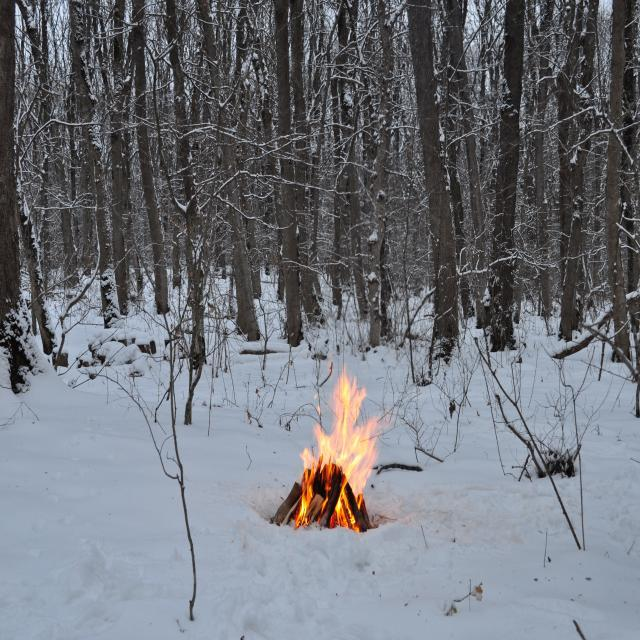Fire: (286, 372, 381, 533)
